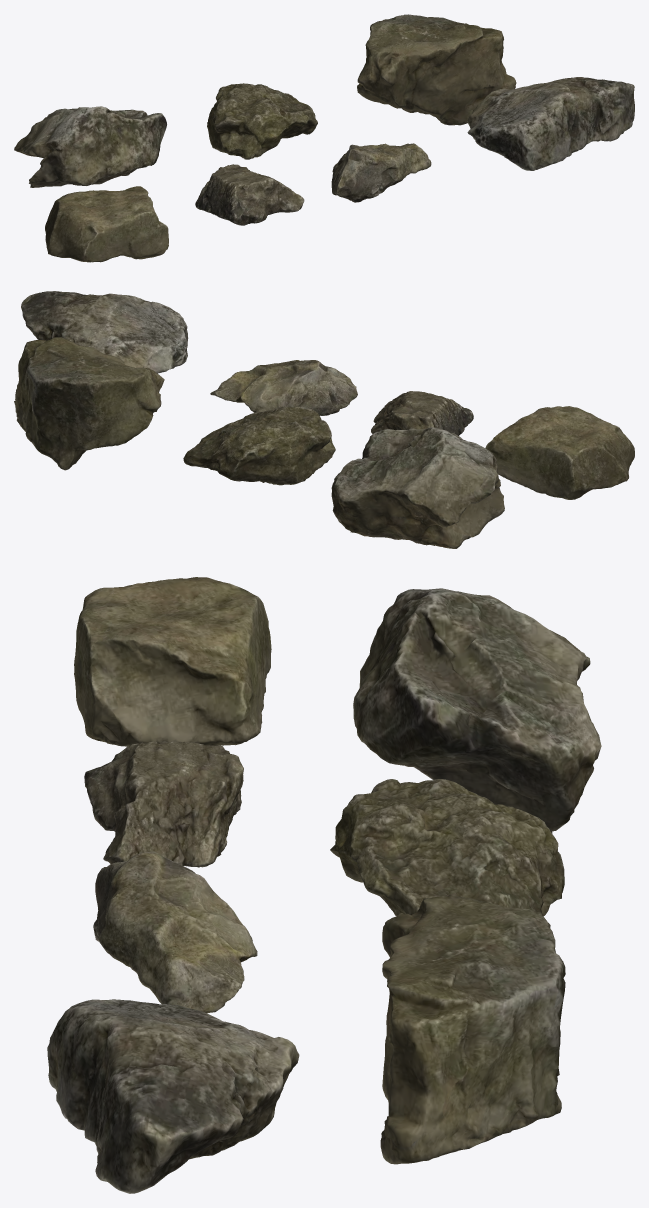
File: rock-moss-set-02.glb
3 renders of one model, top to bottom at view 1: azimuth 30°, elevation 25°; view 2: azimuth 150°, elevation 25°; view 3: azimuth 270°, elevation 25°, orthographic. The views are drawn at different scales.
Parts seen in each view (by area): view 1: rock_moss_set_02_rock13, rock_moss_set_02_rock10, rock_moss_set_02_rock11, rock_moss_set_02_rock07, rock_moss_set_02_rock12, rock_moss_set_02_rock08, rock_moss_set_02_rock09; view 2: rock_moss_set_02_rock11, rock_moss_set_02_rock13, rock_moss_set_02_rock07, rock_moss_set_02_rock10, rock_moss_set_02_rock12, rock_moss_set_02_rock09, rock_moss_set_02_rock08; view 3: rock_moss_set_02_rock13, rock_moss_set_02_rock11, rock_moss_set_02_rock10, rock_moss_set_02_rock07, rock_moss_set_02_rock12, rock_moss_set_02_rock09, rock_moss_set_02_rock08.
Part boxes in pixels (bbox=[...]): rock_moss_set_02_rock13: bbox=[357, 14, 516, 125]; rock_moss_set_02_rock10: bbox=[467, 77, 634, 170]; rock_moss_set_02_rock11: bbox=[14, 106, 166, 187]; rock_moss_set_02_rock07: bbox=[45, 186, 168, 262]; rock_moss_set_02_rock12: bbox=[207, 83, 317, 159]; rock_moss_set_02_rock08: bbox=[195, 164, 304, 225]; rock_moss_set_02_rock09: bbox=[331, 143, 431, 202]; rock_moss_set_02_rock11: bbox=[331, 427, 504, 548]; rock_moss_set_02_rock13: bbox=[14, 337, 164, 470]; rock_moss_set_02_rock07: bbox=[485, 406, 634, 499]; rock_moss_set_02_rock10: bbox=[21, 291, 188, 373]; rock_moss_set_02_rock12: bbox=[183, 406, 335, 485]; rock_moss_set_02_rock09: bbox=[210, 360, 357, 415]; rock_moss_set_02_rock08: bbox=[371, 391, 473, 435]; rock_moss_set_02_rock13: bbox=[380, 895, 565, 1164]; rock_moss_set_02_rock11: bbox=[353, 588, 601, 833]; rock_moss_set_02_rock10: bbox=[47, 999, 299, 1193]; rock_moss_set_02_rock07: bbox=[74, 577, 271, 746]; rock_moss_set_02_rock12: bbox=[330, 779, 564, 927]; rock_moss_set_02_rock09: bbox=[93, 851, 257, 1013]; rock_moss_set_02_rock08: bbox=[84, 741, 243, 867].
Bounding box in the file's own units: 8.28 × 1.37 × 3.41.
Materials: 1 (1 with a texture image).
